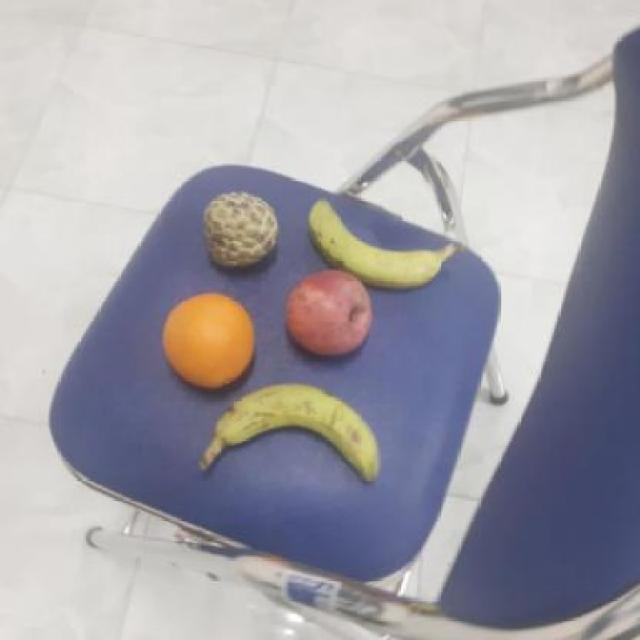apple: (282, 266, 376, 360)
banana: (208, 382, 385, 483), (303, 191, 439, 291)
oren: (161, 289, 258, 386)
sugar apple: (198, 188, 282, 266)
